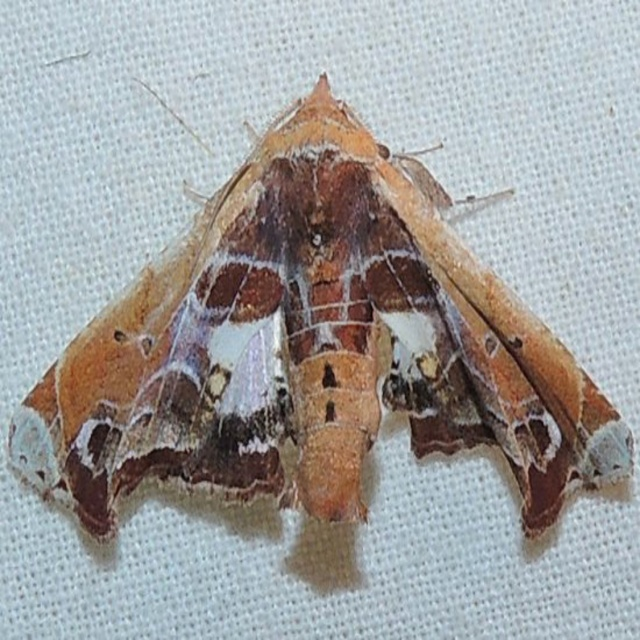Butterfly: (3, 69, 635, 537)
